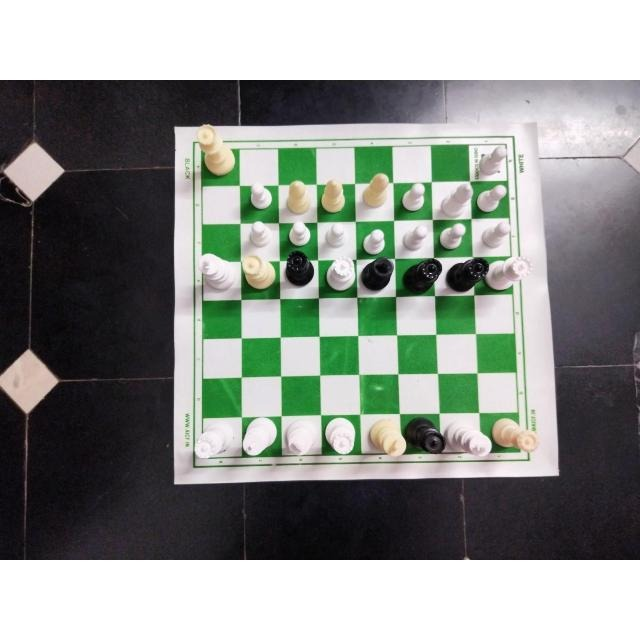black-king: (362, 256, 394, 295)
black-queen: (406, 417, 448, 457), (448, 256, 488, 296), (283, 250, 315, 289), (407, 258, 439, 296)
white-bishop: (278, 181, 314, 216), (437, 184, 473, 215), (317, 180, 347, 213), (361, 172, 388, 206)
white-king: (195, 250, 239, 297), (368, 416, 408, 460), (451, 422, 497, 459), (240, 419, 280, 459), (285, 417, 317, 459)
white-pawn: (436, 219, 471, 250), (476, 144, 508, 177), (479, 218, 512, 250), (399, 183, 430, 215), (247, 183, 273, 217), (478, 183, 505, 214), (363, 226, 393, 253), (248, 219, 276, 245), (320, 223, 349, 248), (404, 224, 429, 252), (287, 220, 315, 245)
white-queen: (486, 413, 542, 454), (192, 124, 236, 174), (486, 253, 536, 292), (192, 418, 233, 459), (324, 414, 358, 458), (324, 252, 356, 297), (243, 252, 277, 292)
